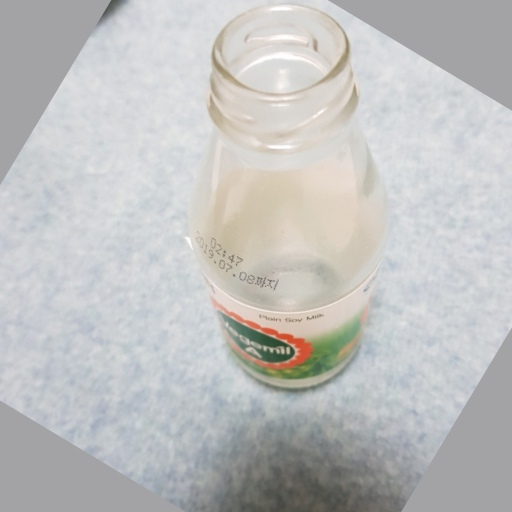Glass_4: (190, 2, 387, 389)
